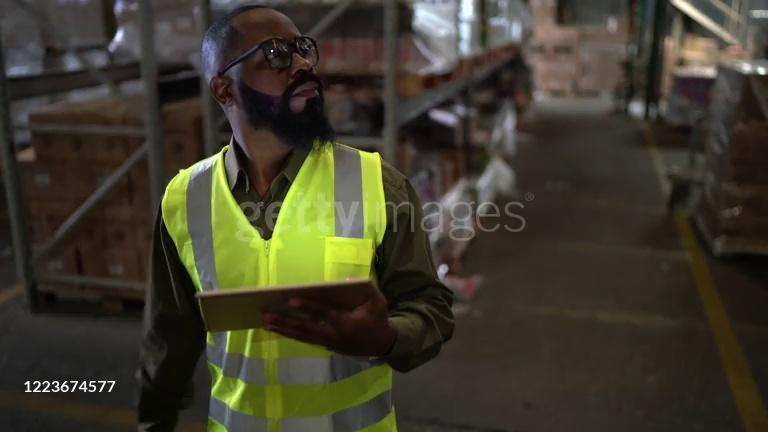person: (135, 4, 458, 432)
